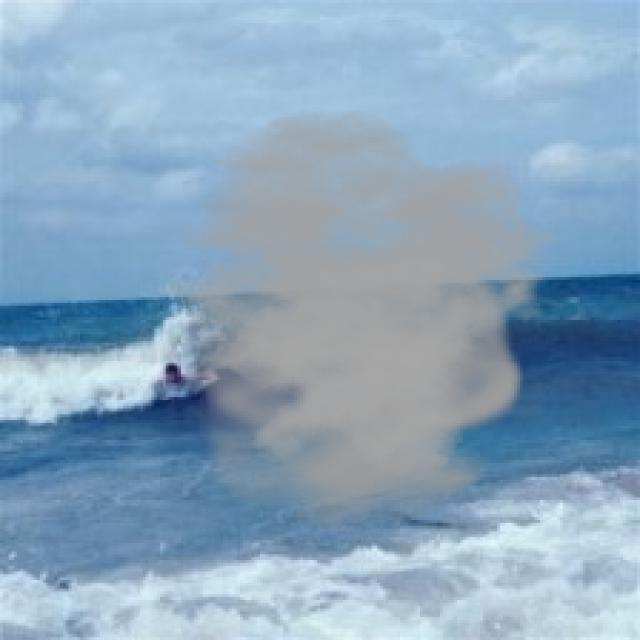smoke: (134, 109, 560, 528)
